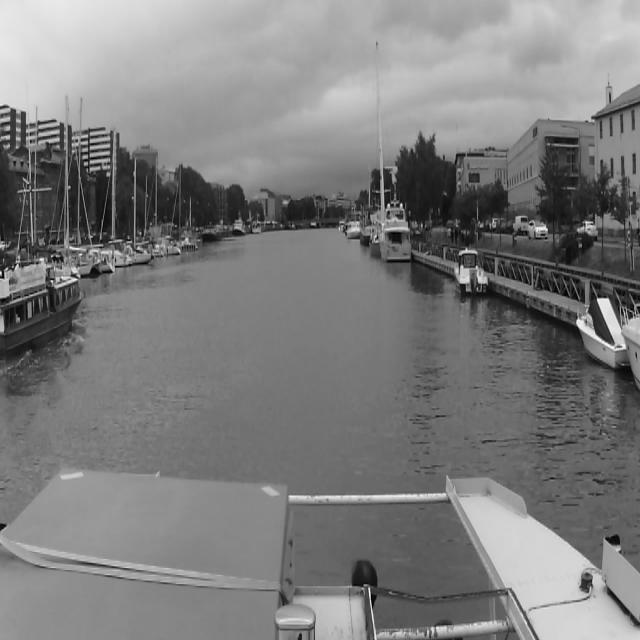ship: (1, 257, 82, 357), (95, 128, 137, 268), (110, 143, 155, 264), (575, 287, 628, 366), (370, 40, 385, 251), (452, 253, 489, 299), (380, 212, 411, 262), (231, 208, 247, 237), (252, 219, 260, 231)
